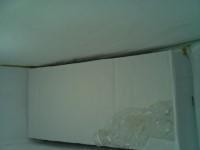bottle: (88, 100, 178, 150)
